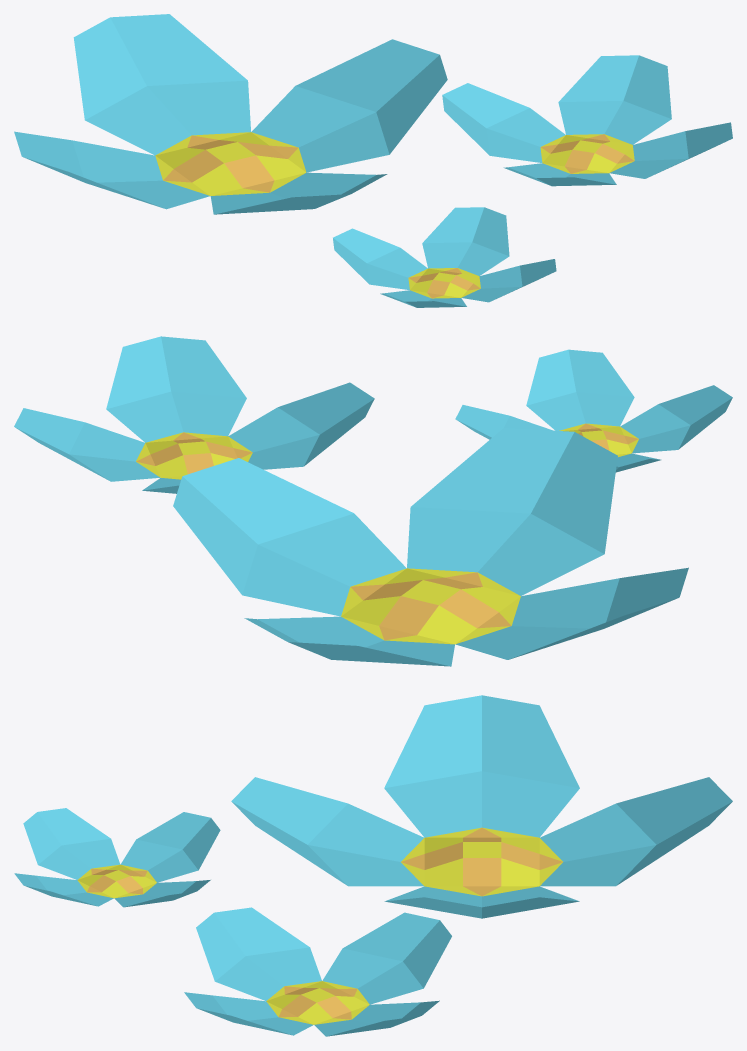
The model's file is Flowers.fbx.
3 views of the same model, one above another, from view 1: azimuth 30°, elevation 25°; view 2: azimuth 150°, elevation 25°; view 3: azimuth 270°, elevation 25° (orthographic). The views are drawn at different scales.
Visible parts, largest first — view 1: Flower; view 2: Flower; view 3: Flower.
Part boxes in pixels (x1,y1,x2,y2): Flower: (14,14,732,307); Flower: (14,336,732,666); Flower: (14,695,732,1036).
Size of the model in its own units: 84.79 by 7.91 by 84.83.
